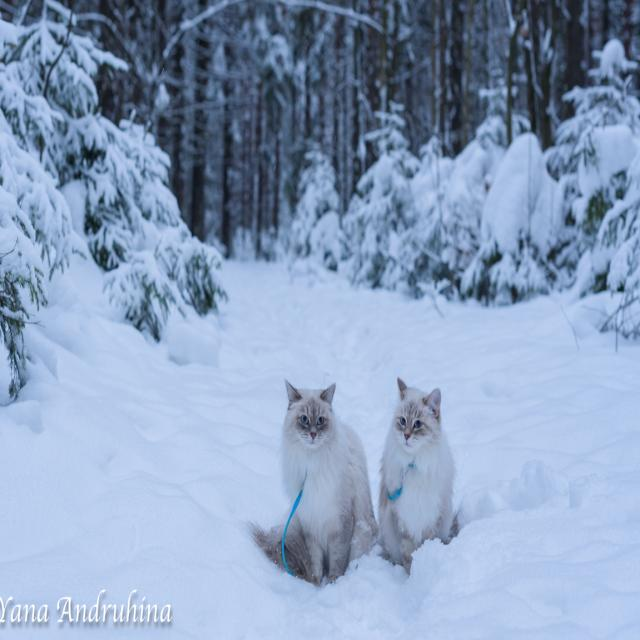Neva Masquerade: (247, 376, 376, 588), (377, 371, 461, 578)
